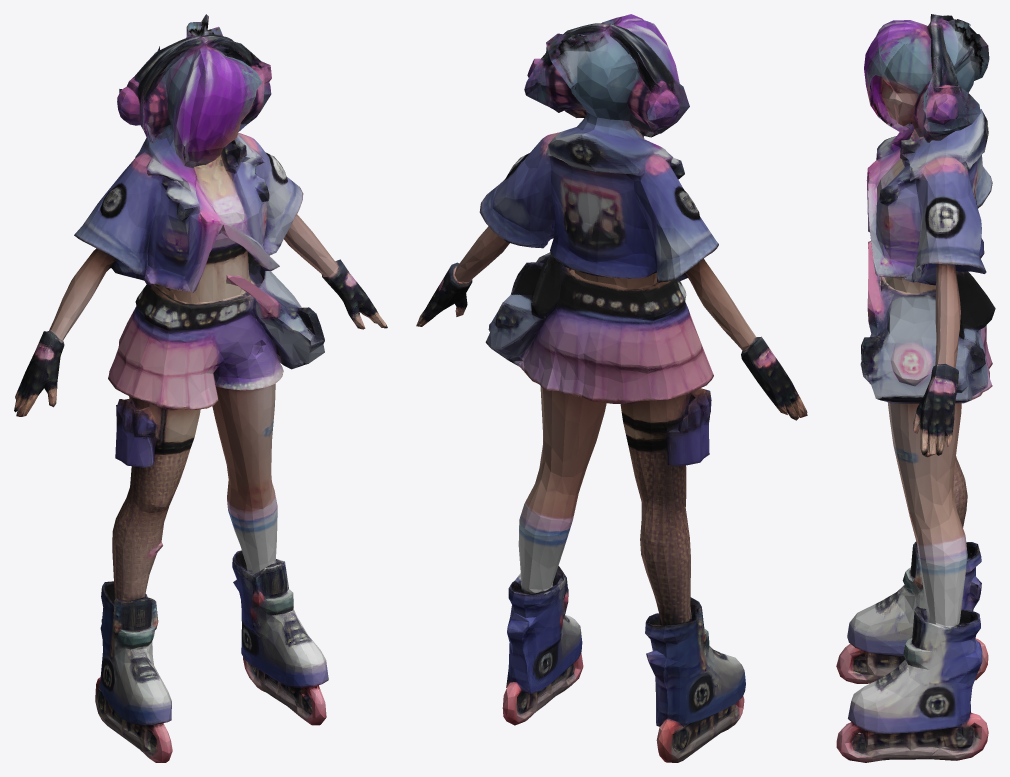
Rendered from courier.gltf.
The picture shows the model from 3 angles, left to right: view 1: azimuth 30°, elevation 25°; view 2: azimuth 150°, elevation 25°; view 3: azimuth 270°, elevation 25°; orthographic projection. The views are drawn at different scales.
Visible parts, largest first — view 1: world; view 2: world; view 3: world.
Part boxes in pixels (<box>): world: <box>14,14,387,762</box>; world: <box>416,14,807,762</box>; world: <box>836,14,995,762</box>.
Size of the model in its own units: 0.3963 by 0.6947 by 0.1427.
1 material, 1 textured.
